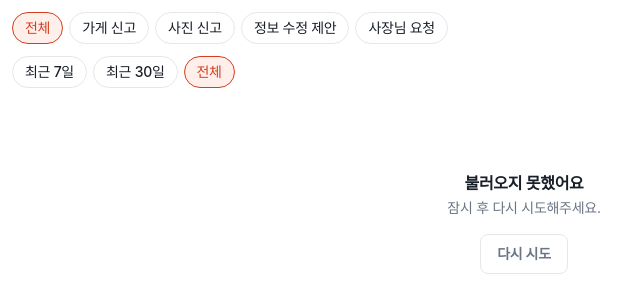
Test: 신고·요청 탭 (design 화면 10-2) › 빈 목록·에러 상태
Click the button "다시 시도". click: [524, 254]
box: [480,234,568,274]
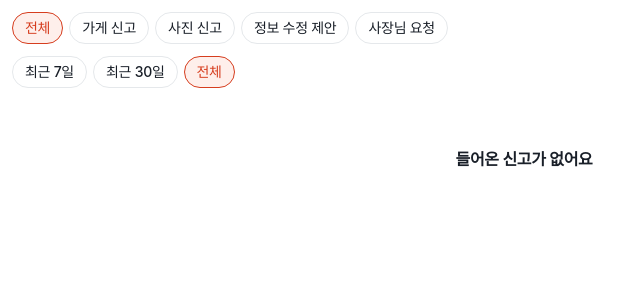
Now the text "들어온 신고가 없어요" is shown, box [456,148,592,170]
